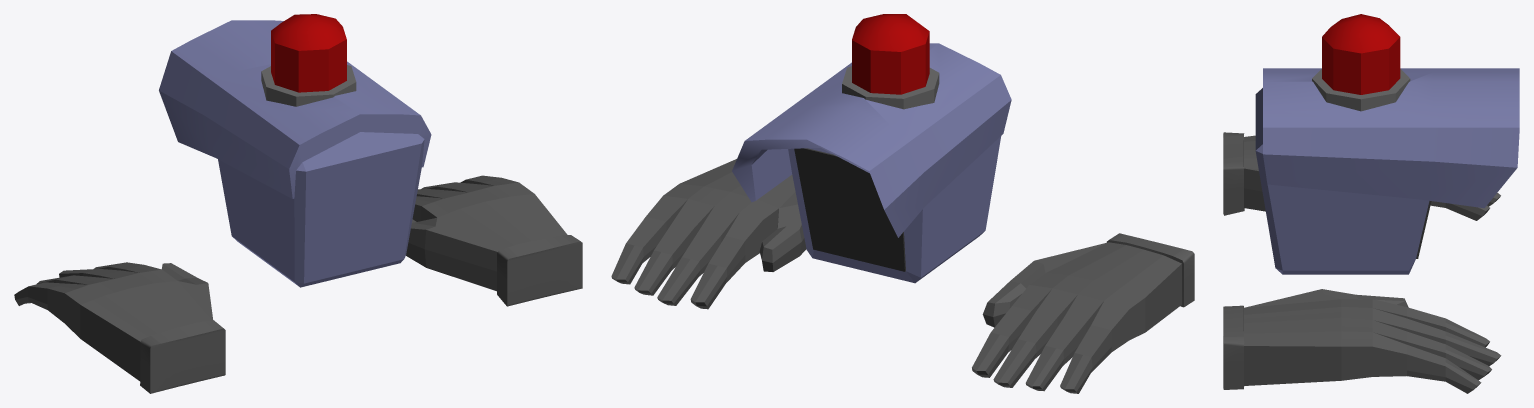
The model's file is Lastboss.fbx.
3 views of the same model, side by side, from view 1: azimuth 30°, elevation 25°; view 2: azimuth 150°, elevation 25°; view 3: azimuth 270°, elevation 25° (orthographic). The views are drawn at different scales.
Parts seen in each view (by area): view 1: body, Lefthand, Righthand; view 2: body, Lefthand, Righthand; view 3: body, Righthand, Lefthand.
Part boxes in pixels (x1,y1,x2,y2): body: (159, 14, 431, 287); Lefthand: (14, 262, 225, 393); Righthand: (406, 175, 582, 306); body: (732, 14, 1011, 283); Lefthand: (972, 233, 1194, 393); Righthand: (611, 159, 806, 309); body: (1255, 14, 1519, 274); Righthand: (1223, 289, 1501, 393); Lefthand: (1223, 132, 1500, 220).
Bounding box in the file's own units: 182 × 104 × 103.
